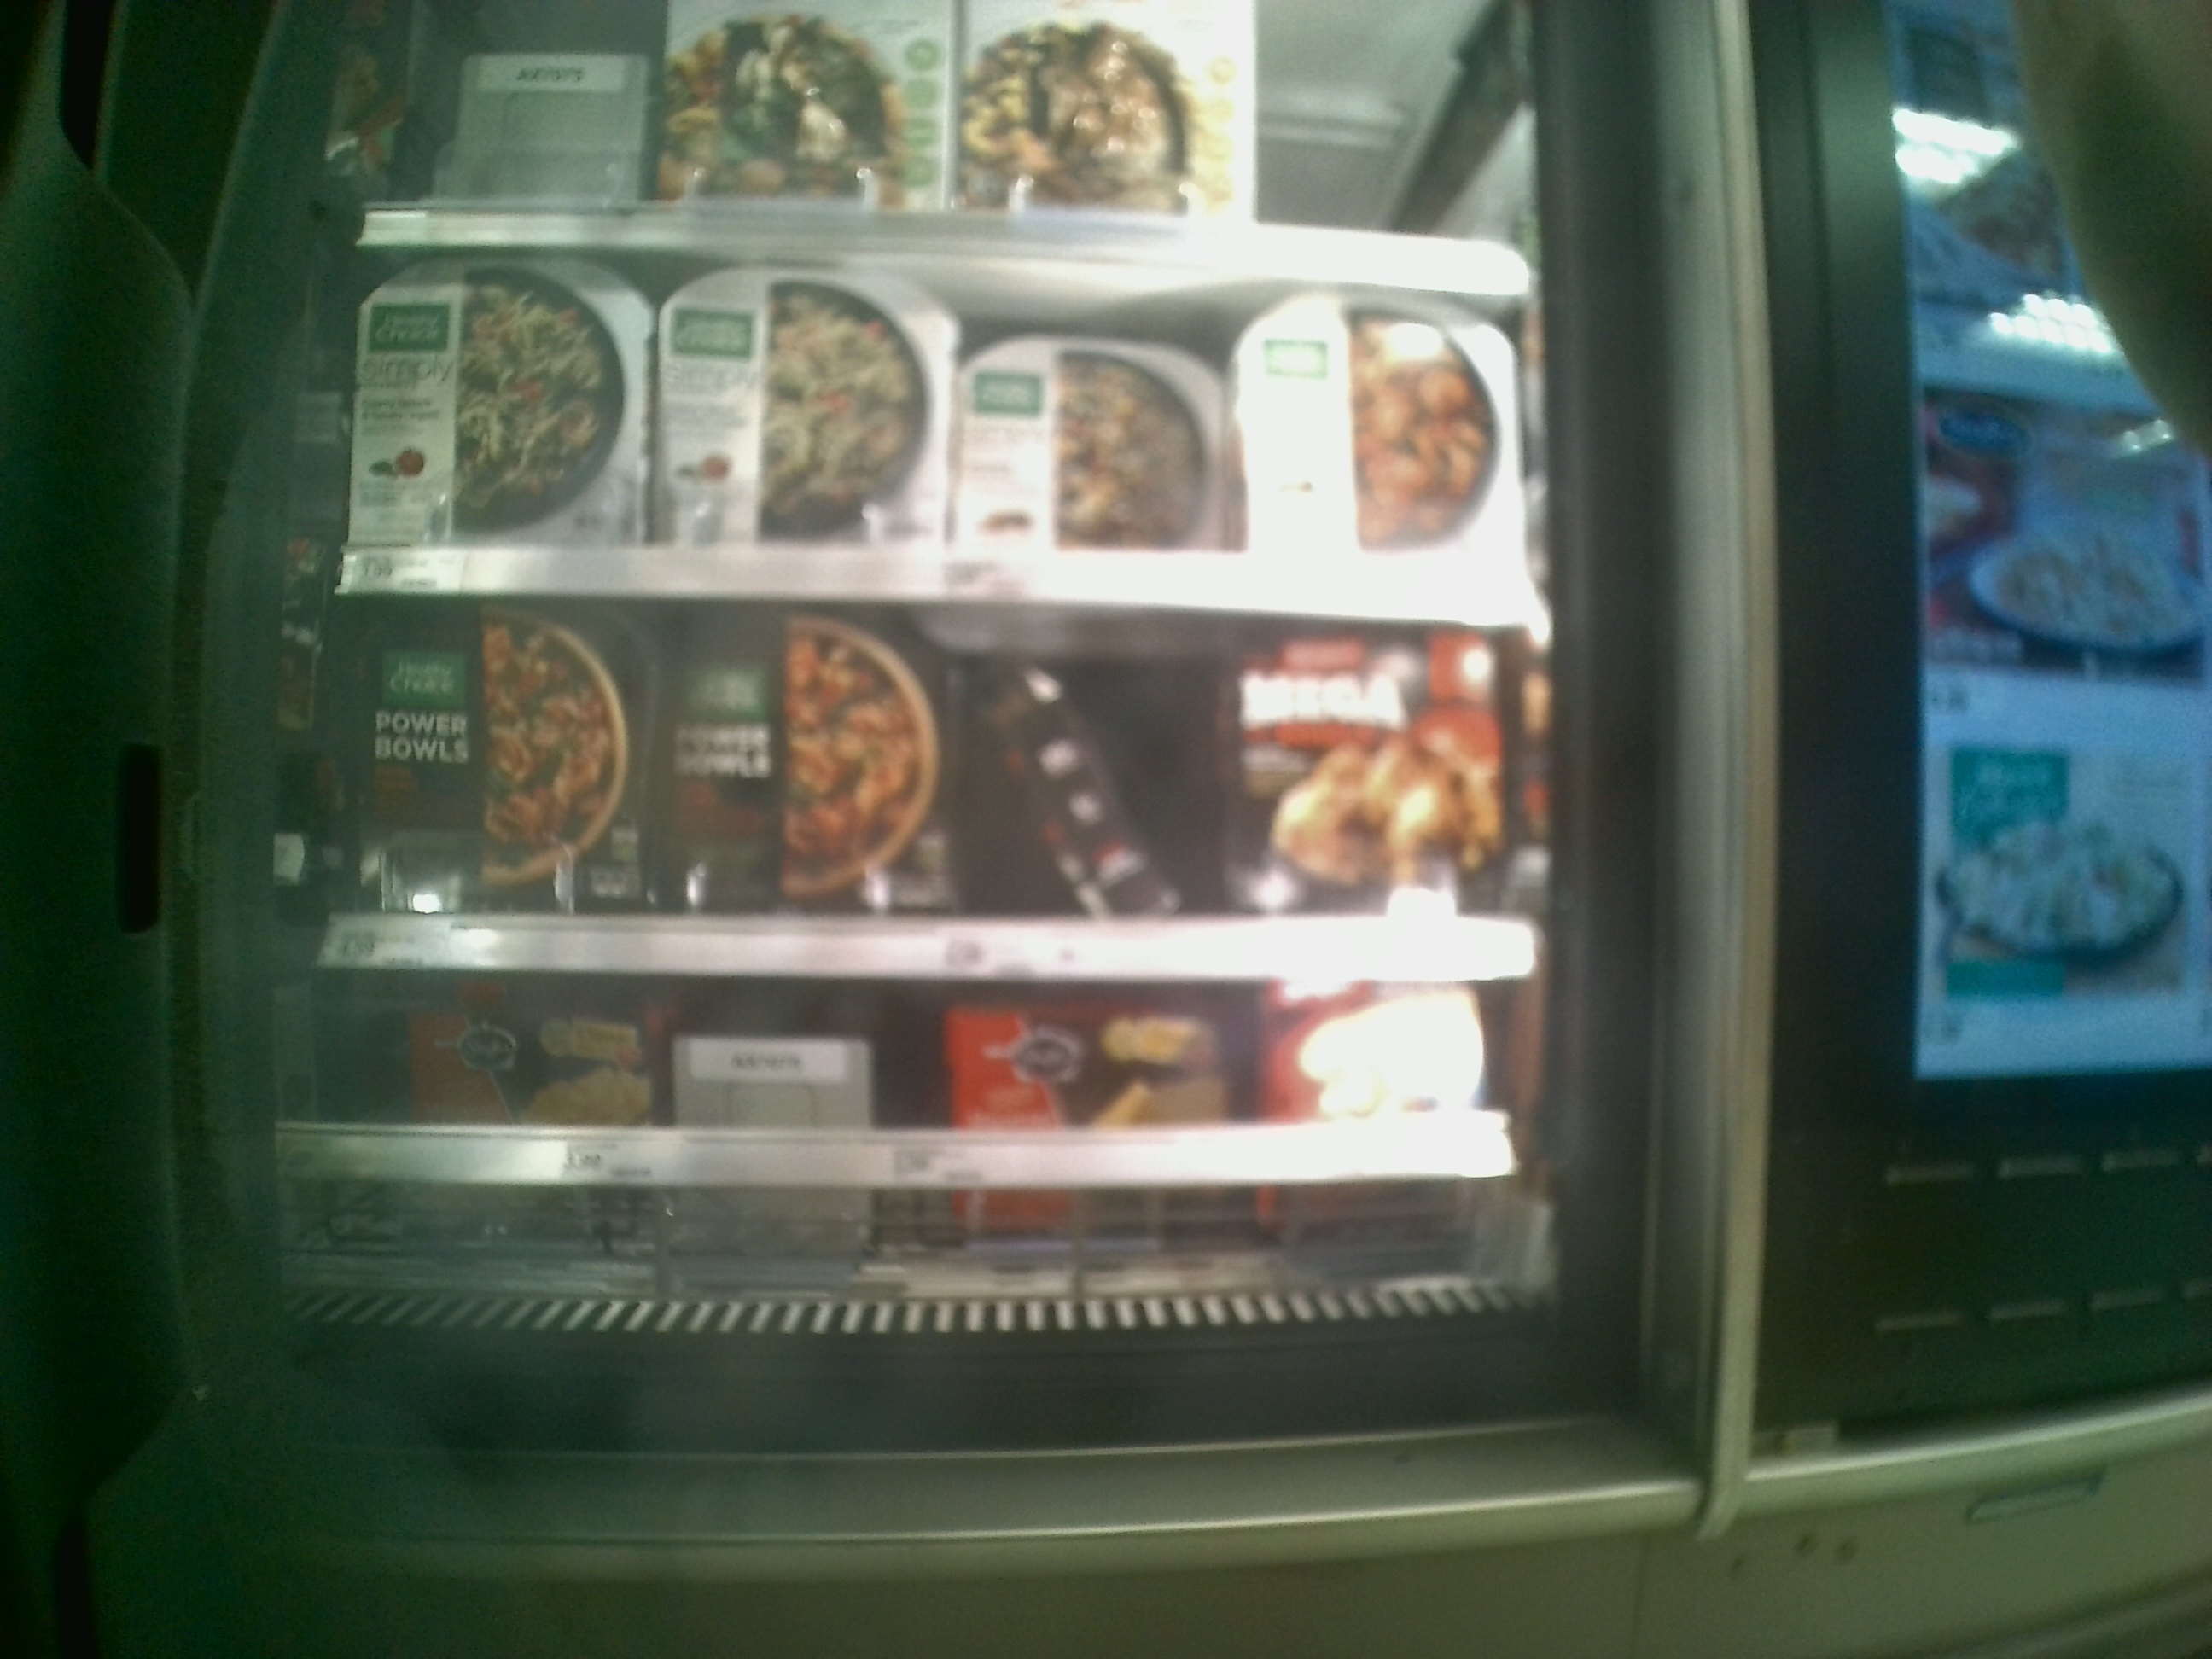shelf: (310, 230, 1543, 622), (336, 592, 1548, 983)
